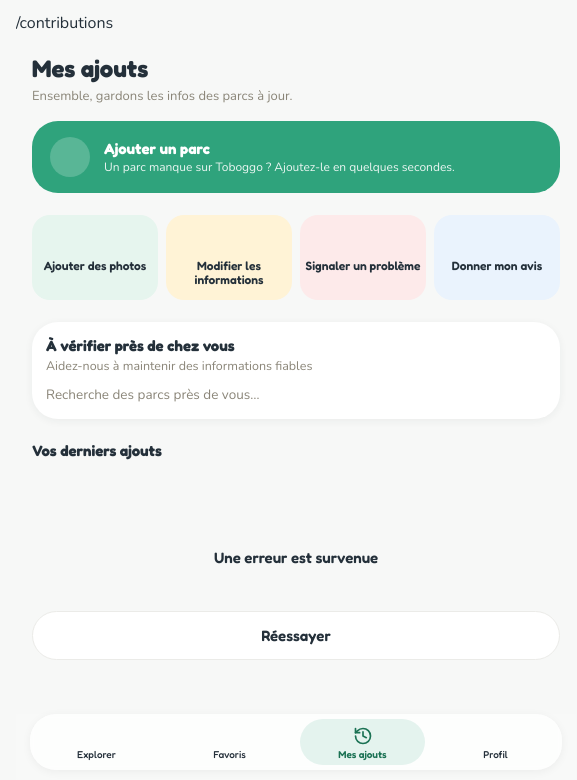
Test: Contributions hub — empty / loading / error › shows a retry action on error and refetches on click
Expected: the text "Une erreur est survenue" is shown, [214, 548, 378, 567]
Click the button "Réessayer" at (296, 635), box [32, 611, 560, 660]
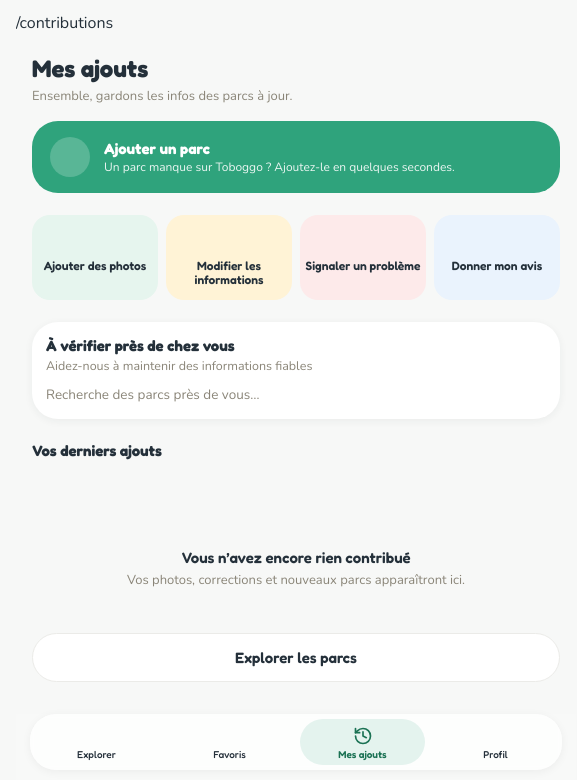
Now the text "Vous n’avez encore rien contribué" is shown, box [181, 548, 411, 567]
